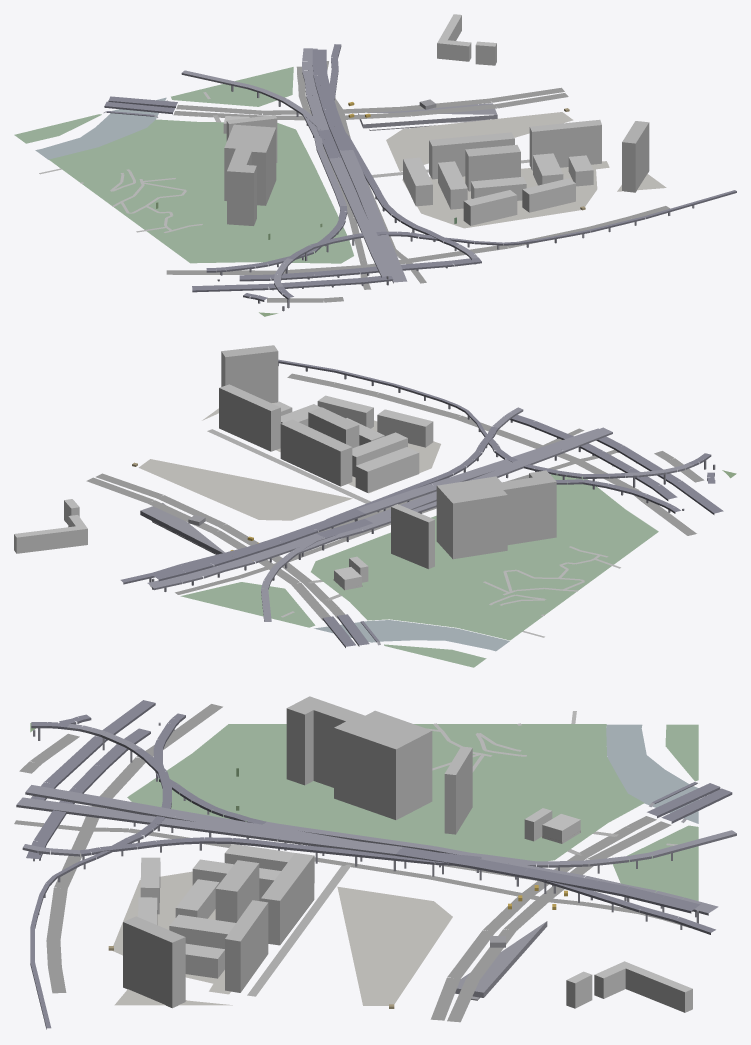
3 renders of one model, top to bottom at view 1: azimuth 30°, elevation 25°; view 2: azimuth 150°, elevation 25°; view 3: azimuth 270°, elevation 25°, orthographic. The views are drawn at different scales.
Size of the model in its own units: 586 by 78.22 by 541.
